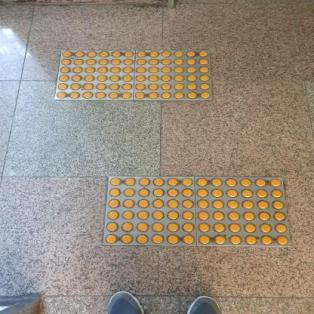Podoctatil: (100, 172, 294, 251), (49, 45, 219, 106)
